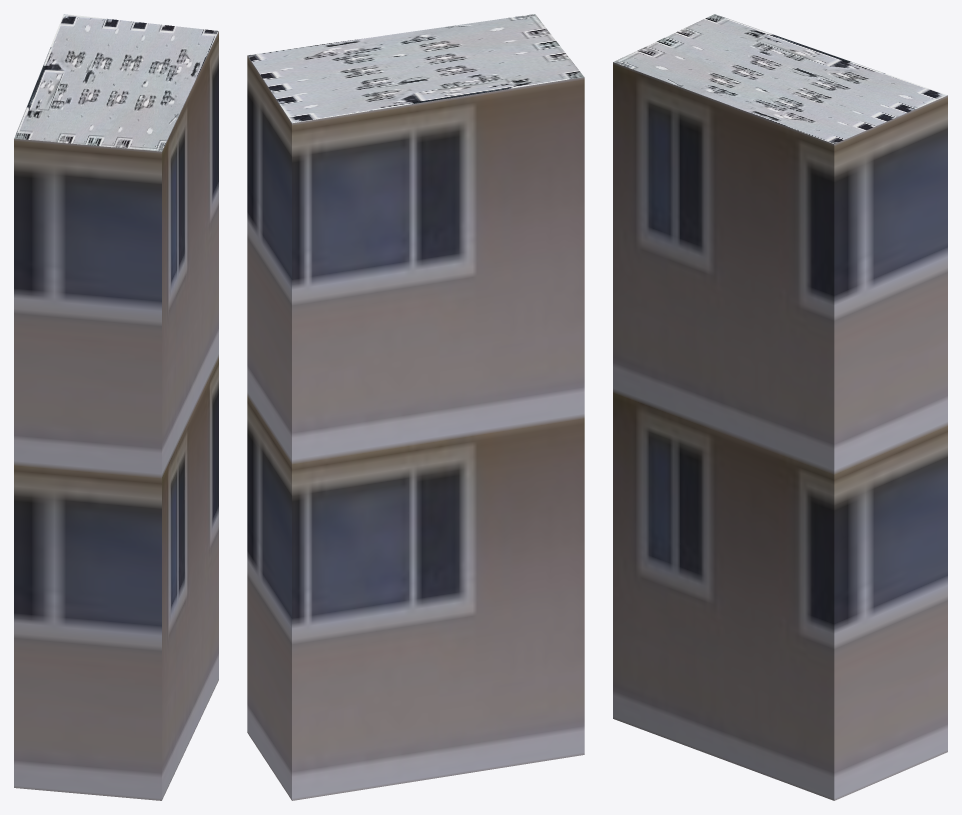
Rendered from ResTex__1736.fbx.
3 renders of one model, left to right at view 1: azimuth 30°, elevation 25°; view 2: azimuth 150°, elevation 25°; view 3: azimuth 270°, elevation 25°, orthographic. The views are drawn at different scales.
Parts seen in each view (by area): view 1: CityEngineMaterial_21_m, CityEngineMaterial_4_m; view 2: CityEngineMaterial_21_m, CityEngineMaterial_4_m; view 3: CityEngineMaterial_21_m, CityEngineMaterial_4_m.
Part boxes in pixels (x1,y1,x2,y2): CityEngineMaterial_21_m: [14, 31, 218, 800]; CityEngineMaterial_4_m: [14, 14, 218, 151]; CityEngineMaterial_21_m: [247, 55, 584, 800]; CityEngineMaterial_4_m: [247, 14, 584, 123]; CityEngineMaterial_21_m: [613, 62, 947, 800]; CityEngineMaterial_4_m: [613, 14, 947, 143].
Size of the model in its own units: 2.55 by 6 by 2.77.
Materials: 2 (2 with a texture image).
